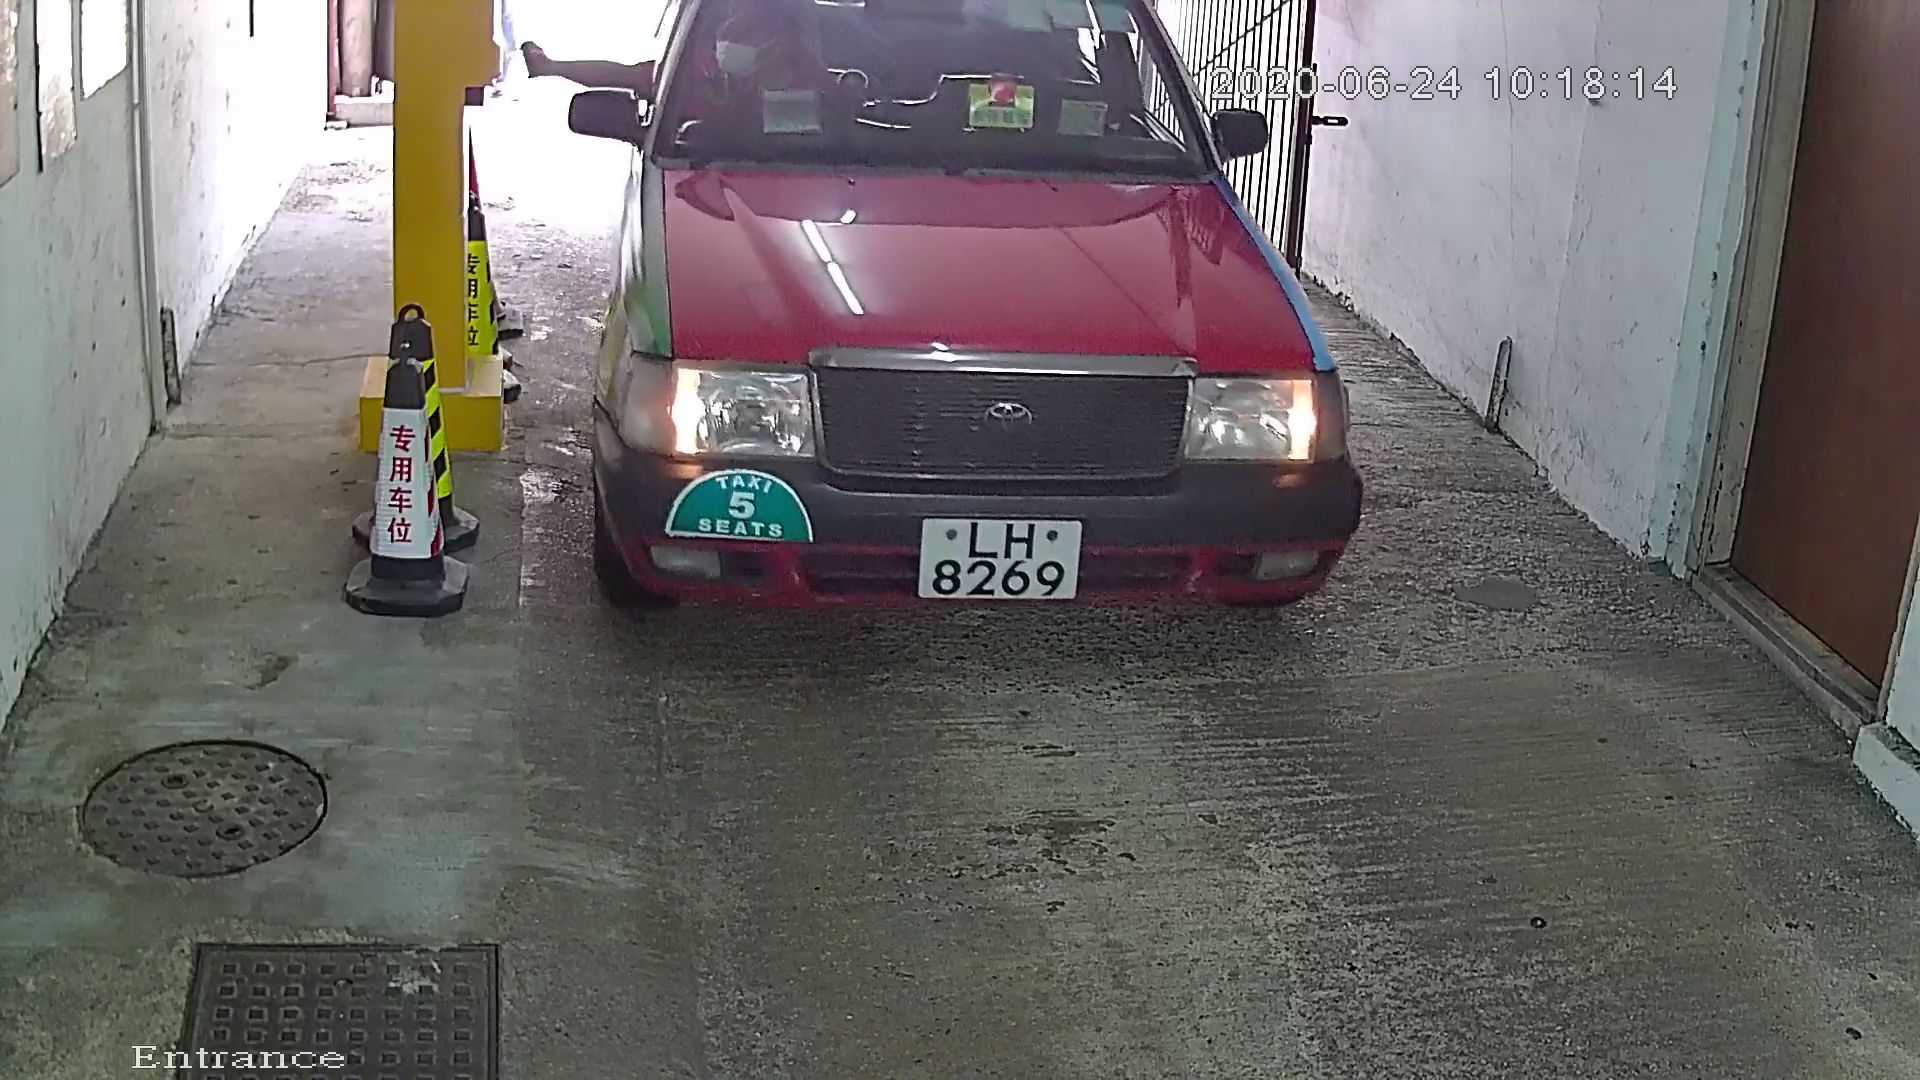Car: (536, 1, 1420, 686)
License Plate: (904, 502, 1095, 630)
